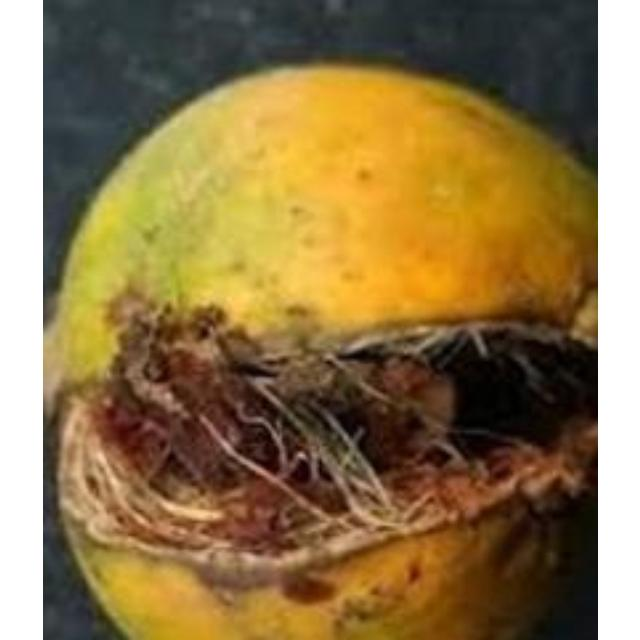damaged: (42, 58, 594, 637)
